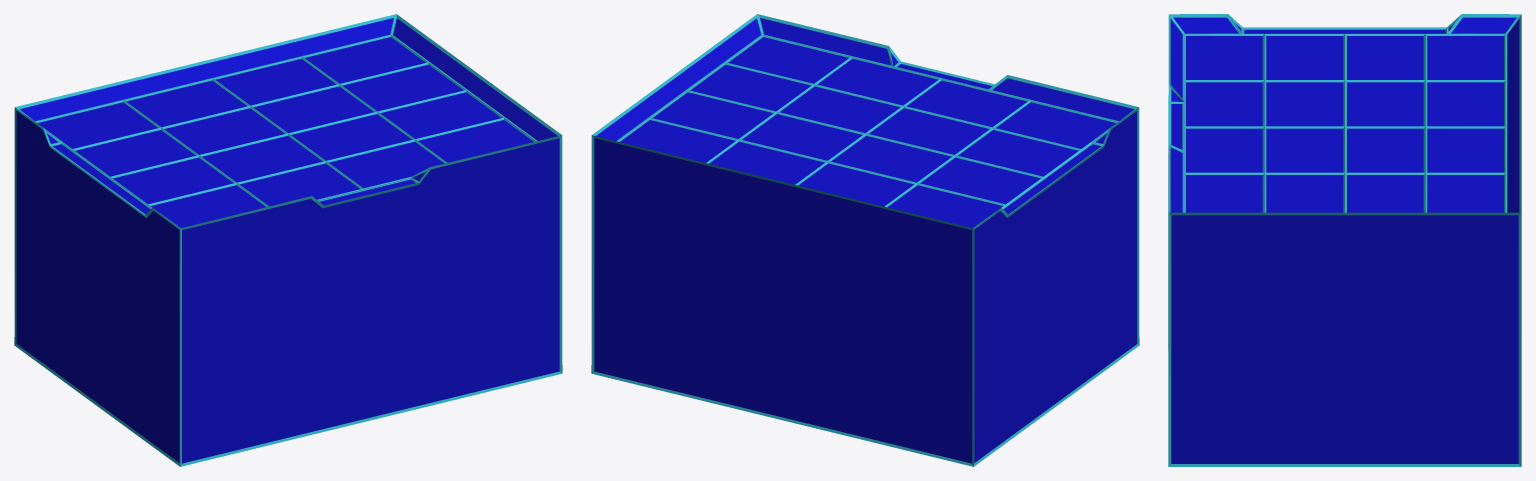
The model's file is struct5.dae.
The picture shows the model from 3 angles, left to right: view 1: azimuth 30°, elevation 25°; view 2: azimuth 150°, elevation 25°; view 3: azimuth 270°, elevation 25°; orthographic projection. The views are drawn at different scales.
Parts seen in each view (by area): view 1: Export_struct5_a, Export_struct5_b; view 2: Export_struct5_a, Export_struct5_b; view 3: Export_struct5_a, Export_struct5_b.
Boxes of the visible parts, box(x1,y1,x2,y2) form: Export_struct5_a: box(16, 18, 559, 463); Export_struct5_b: box(14, 14, 562, 466); Export_struct5_a: box(594, 18, 1137, 463); Export_struct5_b: box(591, 14, 1139, 466); Export_struct5_a: box(1170, 17, 1519, 463); Export_struct5_b: box(1168, 14, 1521, 466).
Size of what is drawn, in the model's own units: 64.3 by 48.3 by 38.37.
